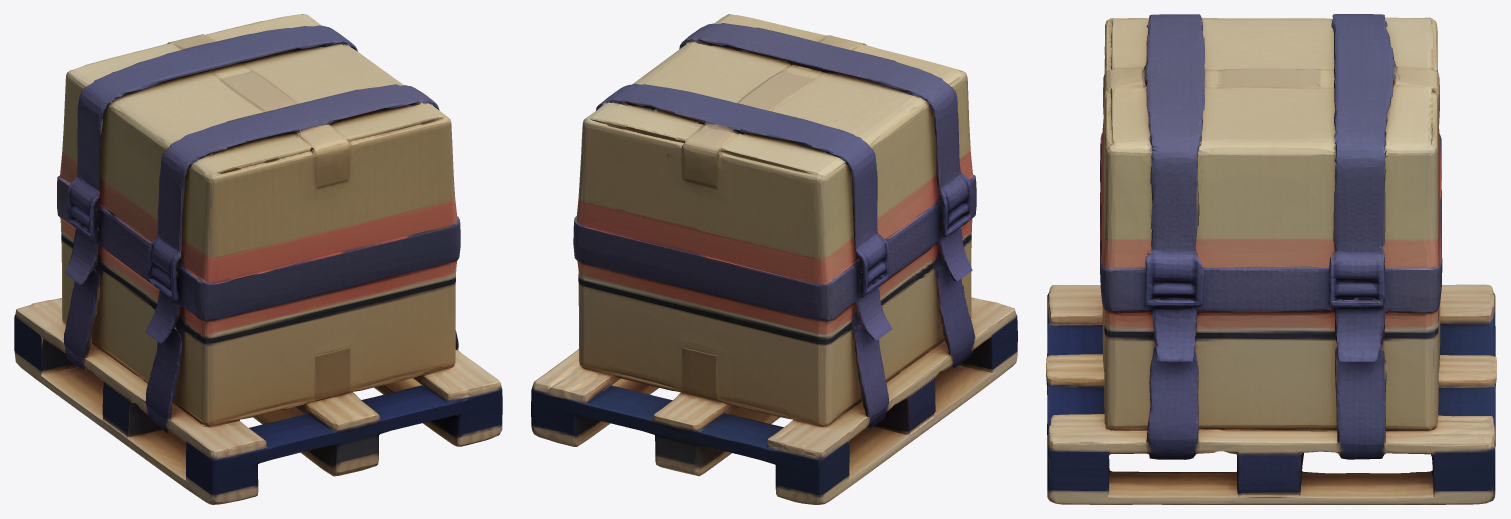
File: crate.glb
The picture shows the model from 3 angles, left to right: view 1: azimuth 30°, elevation 25°; view 2: azimuth 150°, elevation 25°; view 3: azimuth 270°, elevation 25°; orthographic projection. The views are drawn at different scales.
Visible parts, largest first — view 1: world; view 2: world; view 3: world.
Boxes of the visible parts, x1,y1,x2,y2 form: world: [14, 14, 502, 504]; world: [531, 14, 1017, 504]; world: [1046, 14, 1496, 504].
Bounding box in the file's own units: 0.3743 × 0.3854 × 0.4398.
Materials: 1 (1 with a texture image).
